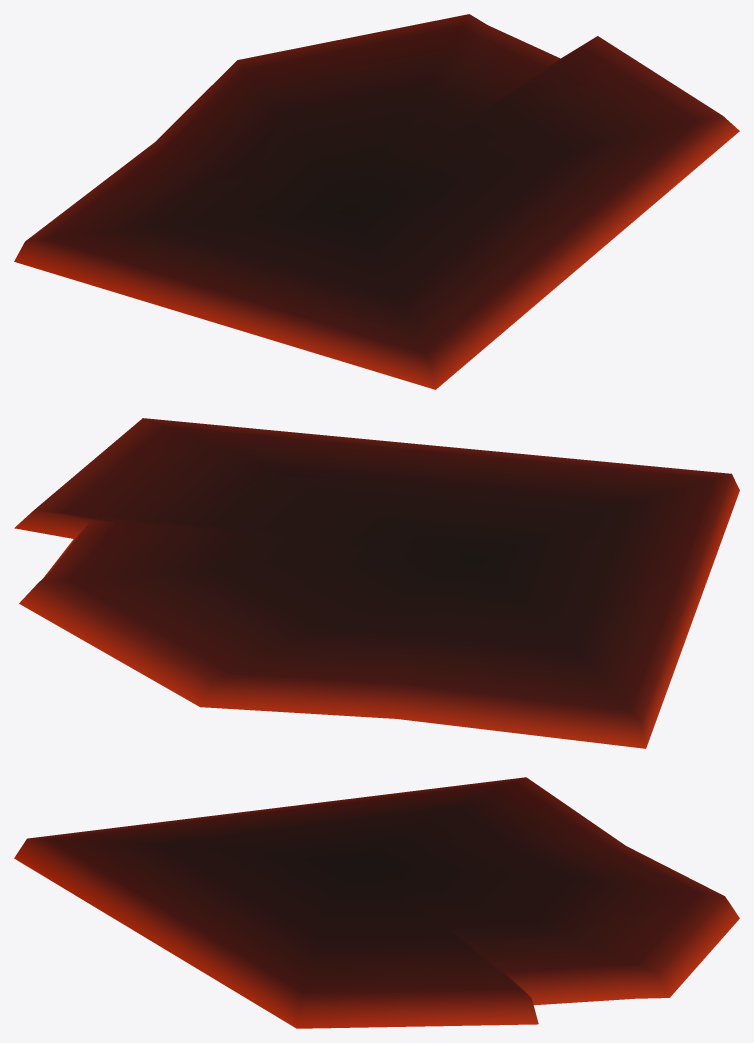
Rendered from raft_m6.glb.
The picture shows the model from 3 angles, top to bottom: view 1: azimuth 30°, elevation 25°; view 2: azimuth 150°, elevation 25°; view 3: azimuth 270°, elevation 25°; orthographic projection. The views are drawn at different scales.
Visible parts, largest first — view 1: raft; view 2: raft; view 3: raft.
Boxes of the visible parts, x1,y1,x2,y2 form: raft: (14,14,739,389); raft: (14,418,739,748); raft: (14,777,739,1028).
Size of the model in its own units: 1.44 by 0.1928 by 1.46.
